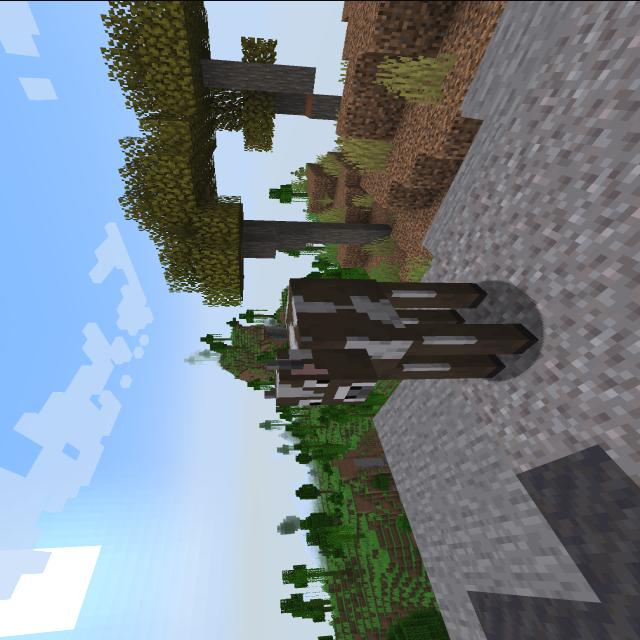cow: (254, 265, 546, 414)
